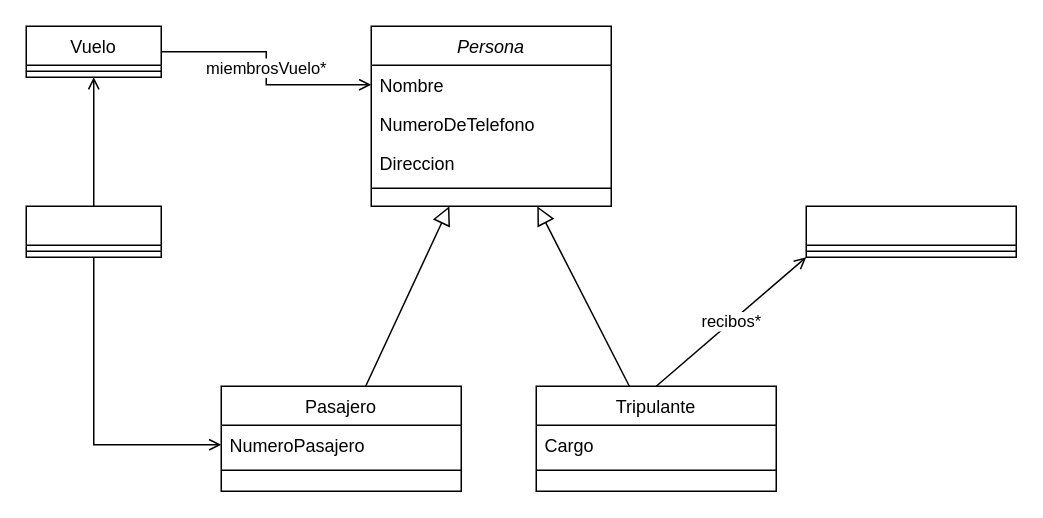
This 1043x518 diagram has some shape labels left out. Each missing label, with the centre of its shape:
"ReciboSueldo" belongs at point (910, 231).
"Ticket" belongs at point (93, 231).
